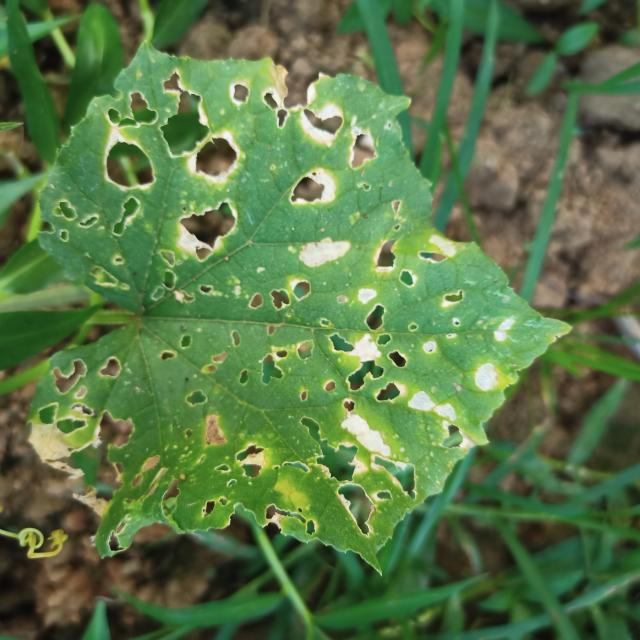disease_cucumber: (30, 66, 489, 526)
